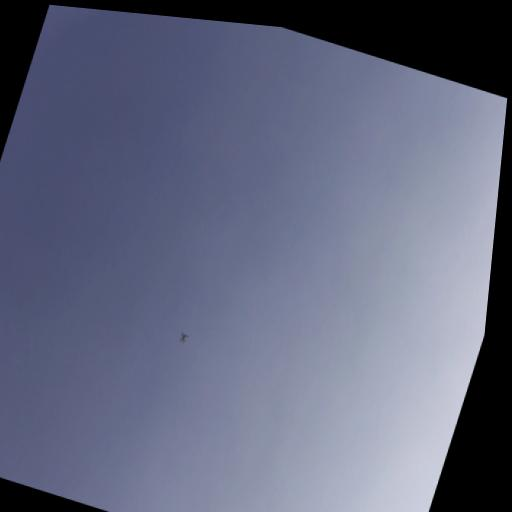drones: (177, 329, 190, 345)
